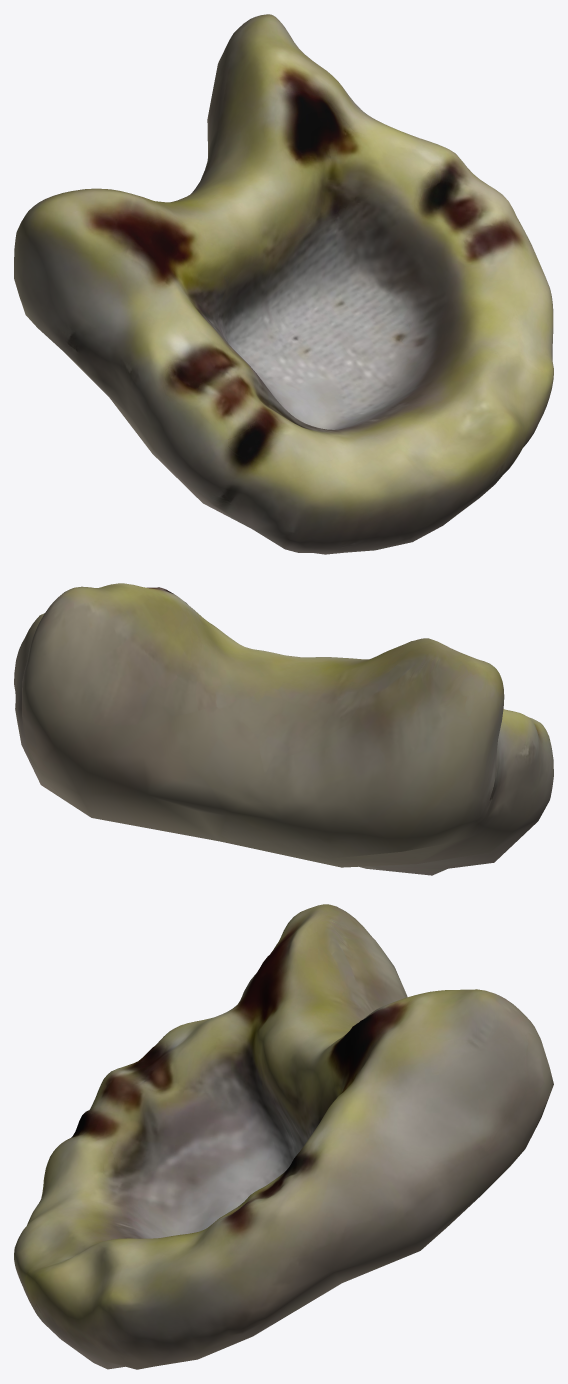
3 views of the same model, one above another, from view 1: azimuth 30°, elevation 25°; view 2: azimuth 150°, elevation 25°; view 3: azimuth 270°, elevation 25° (orthographic). The views are drawn at different scales.
Size of the model in its own units: 0.2182 by 0.1671 by 0.2123.
Materials: 1 (1 with a texture image).
